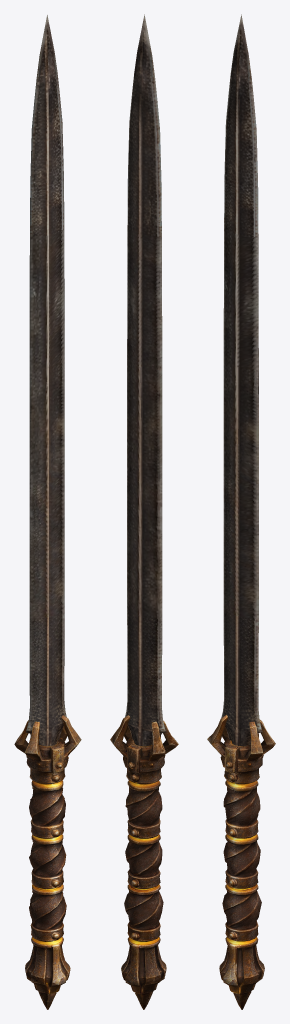
Rendered from sword.glb.
3 views of the same model, side by side, from view 1: azimuth 30°, elevation 25°; view 2: azimuth 150°, elevation 25°; view 3: azimuth 330°, elevation 25° (orthographic).
Parts seen in each view (by area): view 1: Sword; view 2: Sword; view 3: Sword.
Boxes of the visible parts, x1,y1,x2,y2 form: Sword: (14,15,81,1009); Sword: (110,14,178,1009); Sword: (207,14,275,1009).
Size of the model in its own units: 0.1569 by 2.65 by 0.1356.
Materials: 2 (2 with a texture image).
